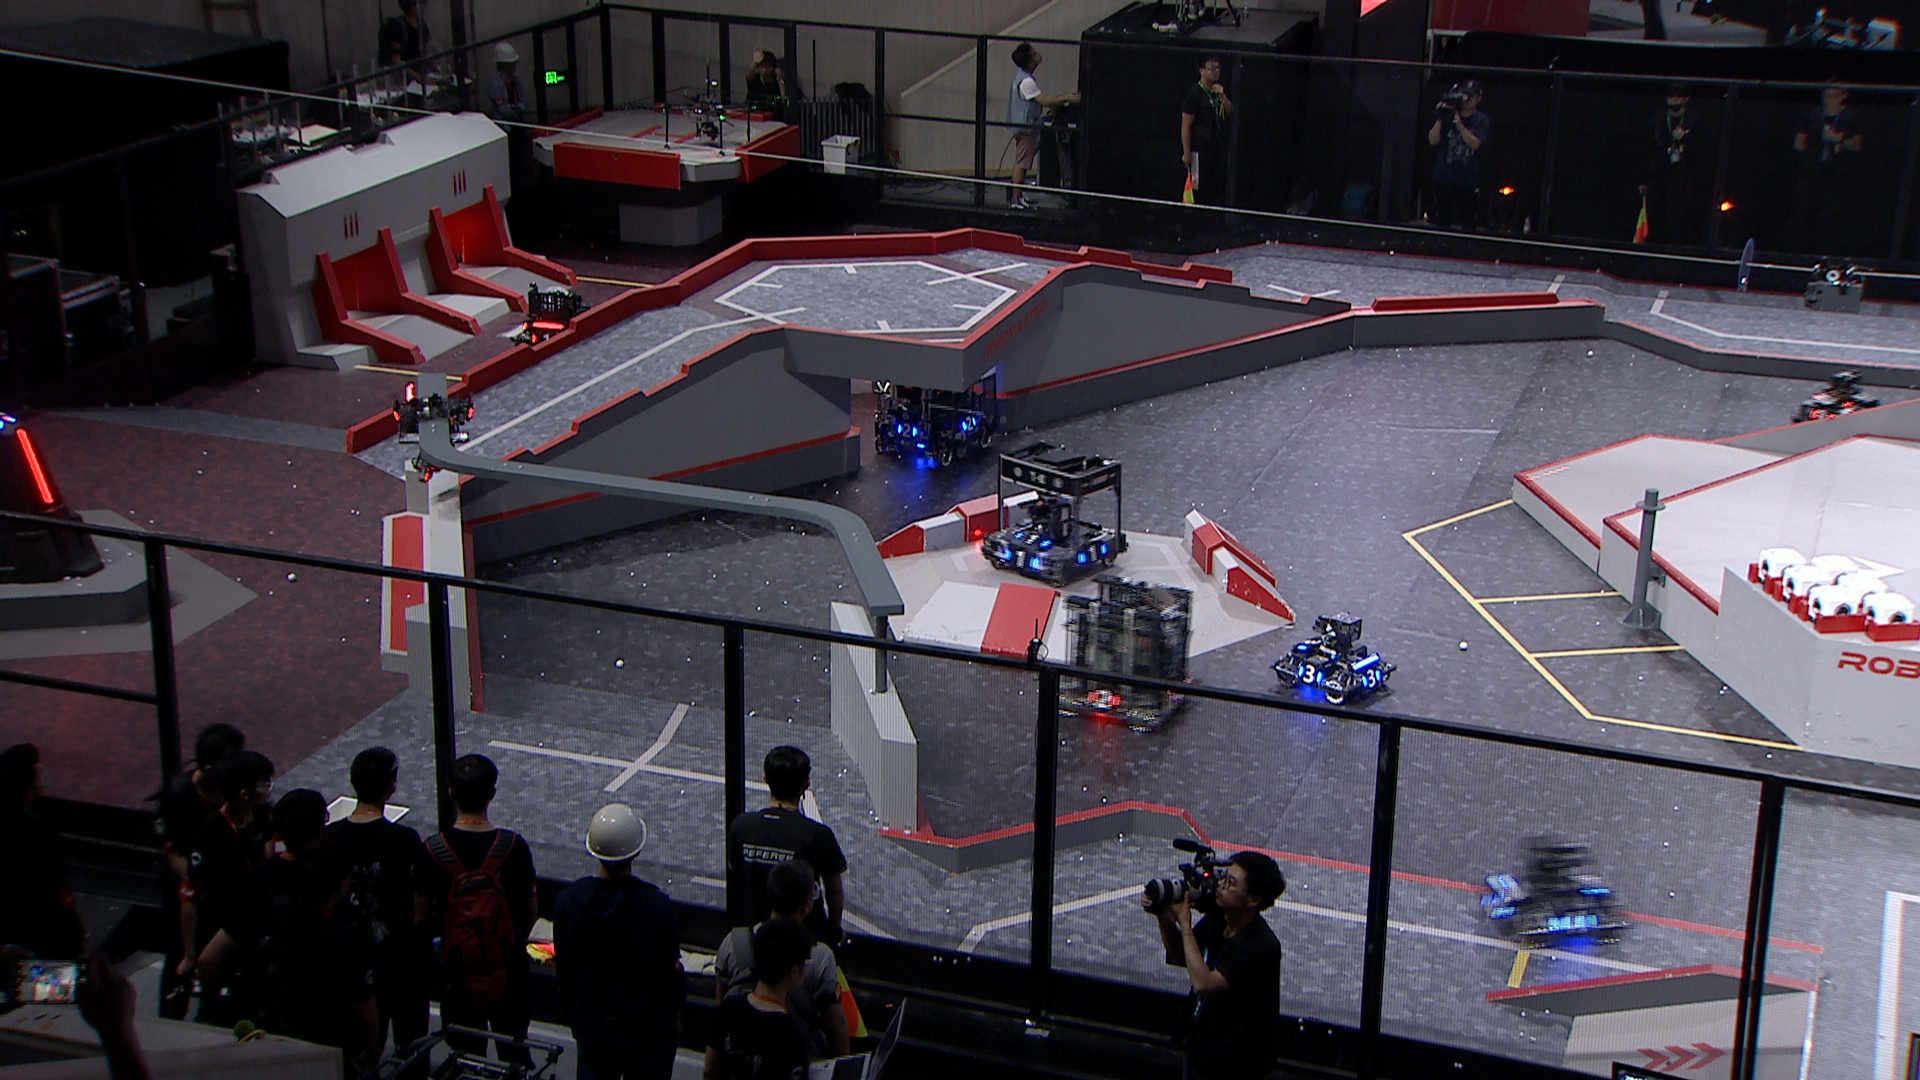armor: (15, 427, 54, 506), (1476, 885, 1509, 916), (1552, 911, 1598, 934), (1087, 688, 1120, 711), (1077, 542, 1110, 564), (1004, 549, 1040, 568), (1015, 527, 1048, 547), (1578, 869, 1605, 887), (1809, 410, 1836, 427), (1298, 669, 1324, 684), (891, 422, 916, 438), (1298, 636, 1320, 651), (1364, 669, 1382, 687), (959, 414, 978, 431), (531, 332, 551, 348), (1813, 392, 1836, 404)
car: (978, 434, 1129, 589), (1054, 578, 1195, 738), (1470, 835, 1629, 949), (866, 348, 1006, 467), (1273, 607, 1394, 708), (506, 282, 600, 363), (1793, 371, 1874, 440)
watcher: (390, 385, 483, 484)
